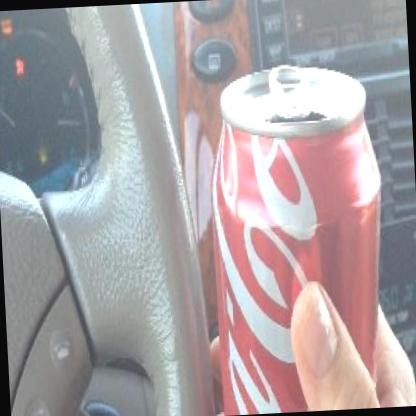alumunium_can: (203, 58, 392, 414)
